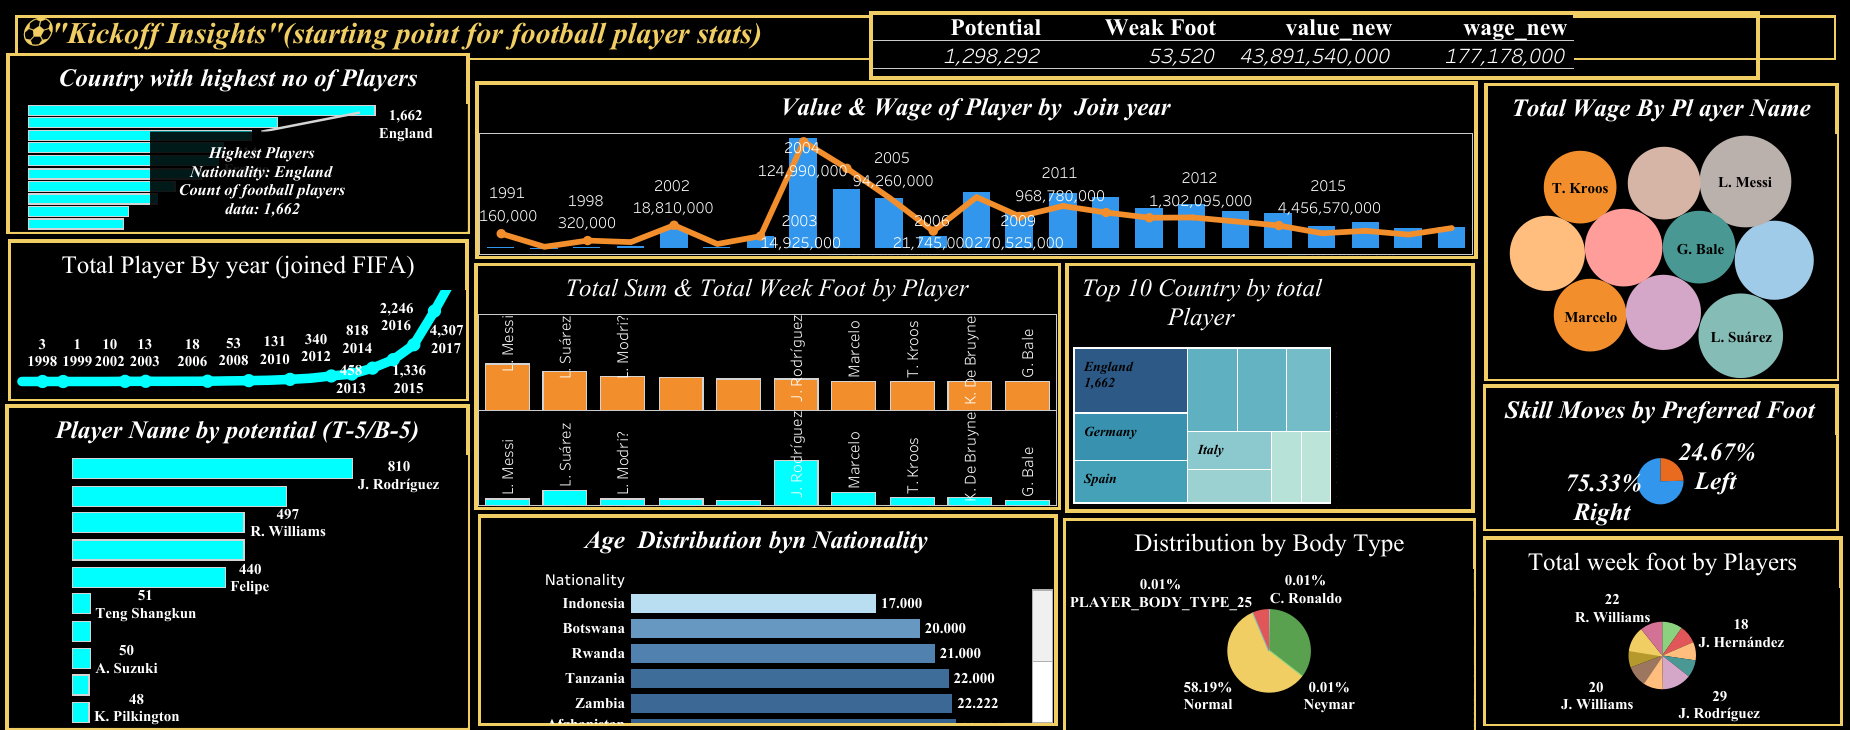

The page's visual inventory and layout, read from the dashboard file:
{"tool":"tableau","page":{"name":"Dashboard 1","canvas":[1000,1000],"units":"permille","ordinal":0},"visuals":[{"type":"title","box":[4.8,10,990.3,59.9]},{"type":"worksheet","title":"KPI","mark":"Automatic","box":[469.5,16.2,481,92.4]},{"type":"worksheet","title":"1.a)","mark":"Automatic","rows":["Nationality"],"cols":["football players data_A91BC5FBC2994A00A34A717A1CF881E0"],"box":[3.6,71.2,250.5,248.4]},{"type":"worksheet","title":"4.a)","mark":"Bar","rows":["Calculation_969681349751640064","Calculation_969681349755076609"],"cols":["Joined"],"box":[256.5,111.1,541.3,242.2]},{"type":"worksheet","title":"2.c)","mark":"Circle","box":[801.5,113.6,191.9,408.2]},{"type":"worksheet","title":"2.a)","mark":"Automatic","rows":["football players data_A91BC5FBC2994A00A34A717A1CF881E0"],"cols":["Joined"],"box":[4.2,325.8,249.2,222.2]},{"type":"worksheet","title":"2.e)","mark":"Automatic","rows":["Calculation_969681349755076609","Weak Foot"],"cols":["Name"],"box":[255.9,359.6,317.4,338.3]},{"type":"worksheet","title":"3.d)","mark":"Automatic","box":[575.1,359.6,221.5,342.1]},{"type":"worksheet","title":"1.b)","mark":"Pie","box":[800.8,524.3,192.5,202.2]},{"type":"worksheet","title":"2.d)","mark":"Automatic","rows":["Name"],"cols":["Potential"],"box":[2.4,551.8,251.7,446.9]},{"type":"worksheet","title":"4.b)","mark":"Automatic","rows":["Nationality"],"cols":["Age"],"box":[257.7,702.9,313.8,290.9]},{"type":"worksheet","title":"4.c)","mark":"Pie","box":[800.8,734.1,194.3,258.4]}]}

Visuals, with their boxes on the dashboard's canvas, which has no fixed pixel size, in thousandths of its width and height (x1, y1, x2, y2). These are canvas units, not pixel positions in the 1850x730 screenshot, which may show the page scaled, cropped or inside an application window:
title: (5, 10, 995, 70)
"KPI" worksheet: (470, 16, 950, 109)
"1.a)" worksheet: (4, 71, 254, 320)
"4.a)" worksheet (Bar marks): (256, 111, 798, 353)
"2.c)" worksheet (Circle marks): (802, 114, 993, 522)
"2.a)" worksheet: (4, 326, 253, 548)
"2.e)" worksheet: (256, 360, 573, 698)
"3.d)" worksheet: (575, 360, 797, 702)
"1.b)" worksheet (Pie marks): (801, 524, 993, 726)
"2.d)" worksheet: (2, 552, 254, 999)
"4.b)" worksheet: (258, 703, 572, 994)
"4.c)" worksheet (Pie marks): (801, 734, 995, 992)
